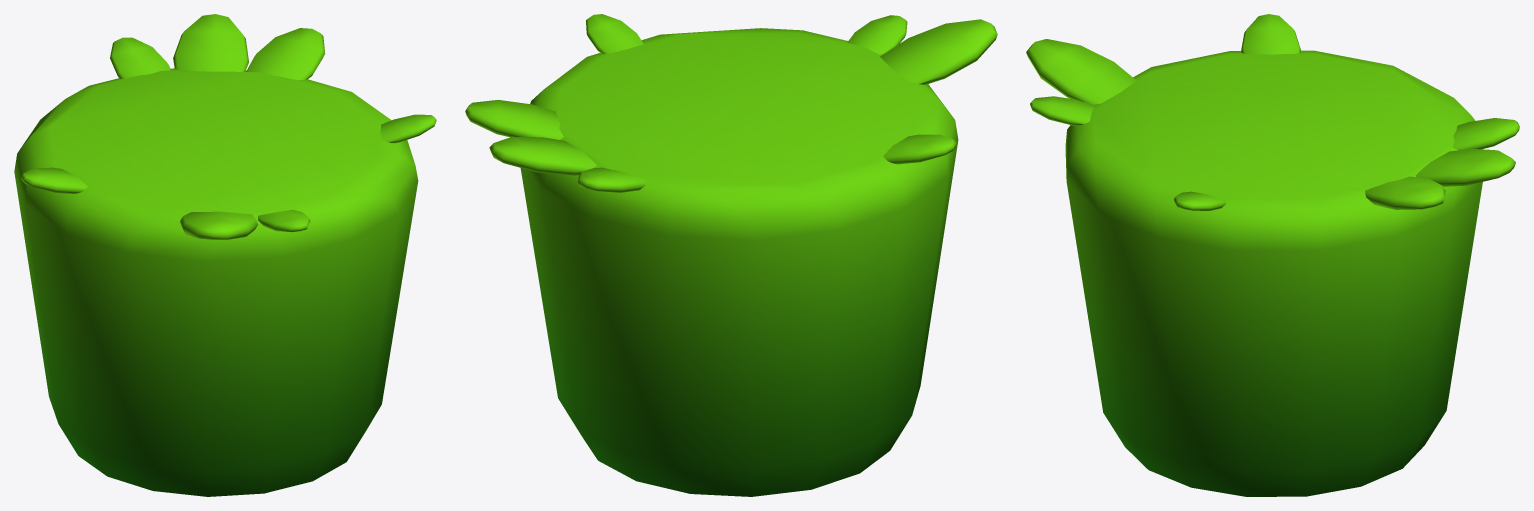
The model's file is Grass.fbx.
3 views of the same model, side by side, from view 1: azimuth 30°, elevation 25°; view 2: azimuth 150°, elevation 25°; view 3: azimuth 270°, elevation 25° (orthographic). The views are drawn at different scales.
Parts seen in each view (by area): view 1: Grass; view 2: Grass; view 3: Grass.
Boxes of the visible parts, box(x1,y1,x2,y2) form: Grass: box(14, 14, 436, 496); Grass: box(465, 14, 997, 496); Grass: box(1026, 14, 1519, 496).
Size of the model in its own units: 96 by 78 by 105.
